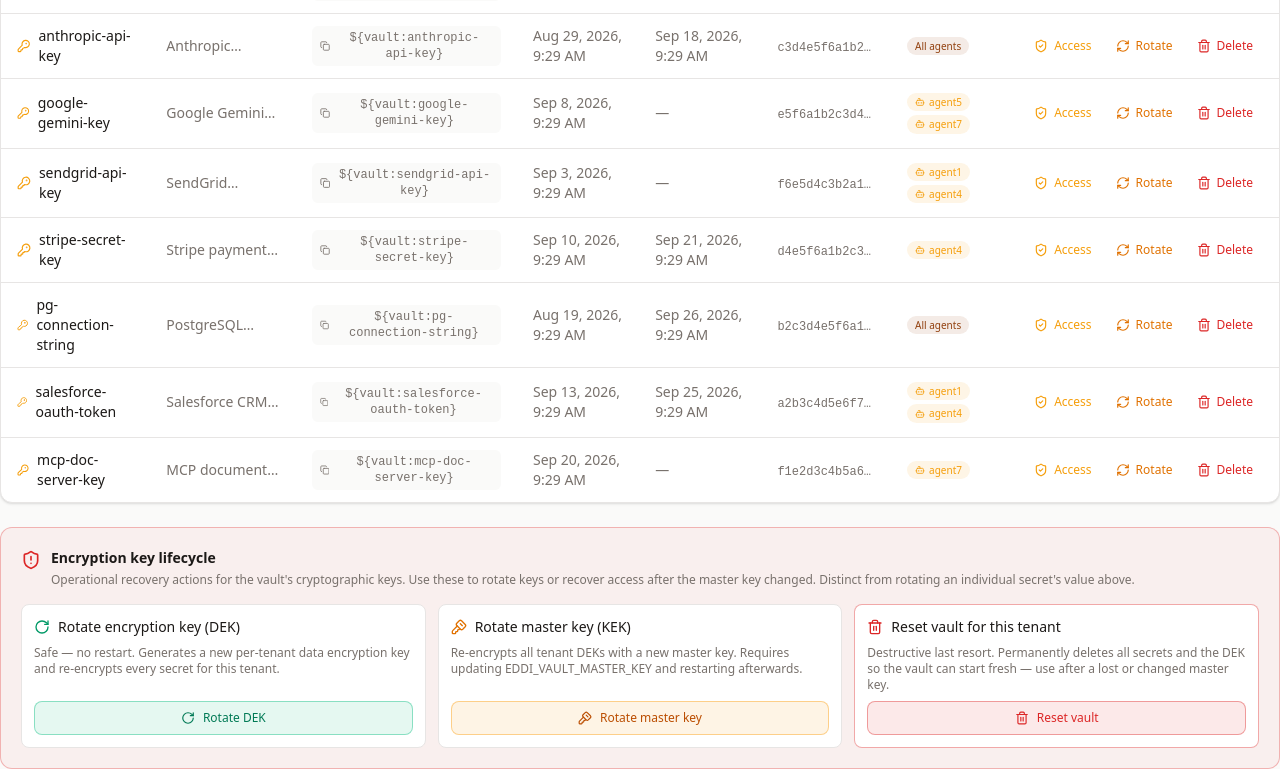
Test: SecretsPage — key lifecycle danger zone › rotate DEK is a guided one-click action behind a single confirm
(page scrolled)
Click the button with test id "open-rotate-dek": (223, 718) x1=34 y1=701 x2=413 y2=735
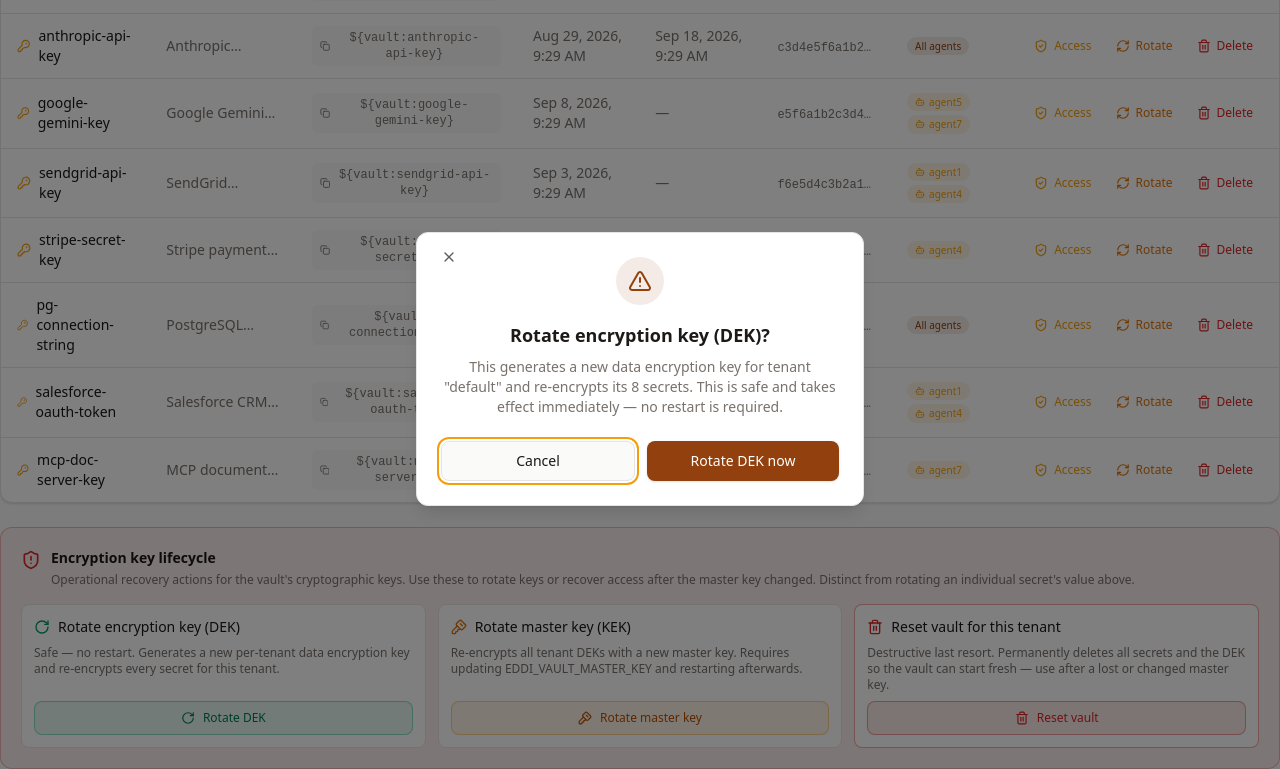
Expected: the text "no restart is required" is shown, x1=444 y1=357 x2=836 y2=416
# A single confirm click performs the rotation (no extra inputs required).
Click the button "Rotate DEK now": (743, 461) x1=647 y1=441 x2=839 y2=481
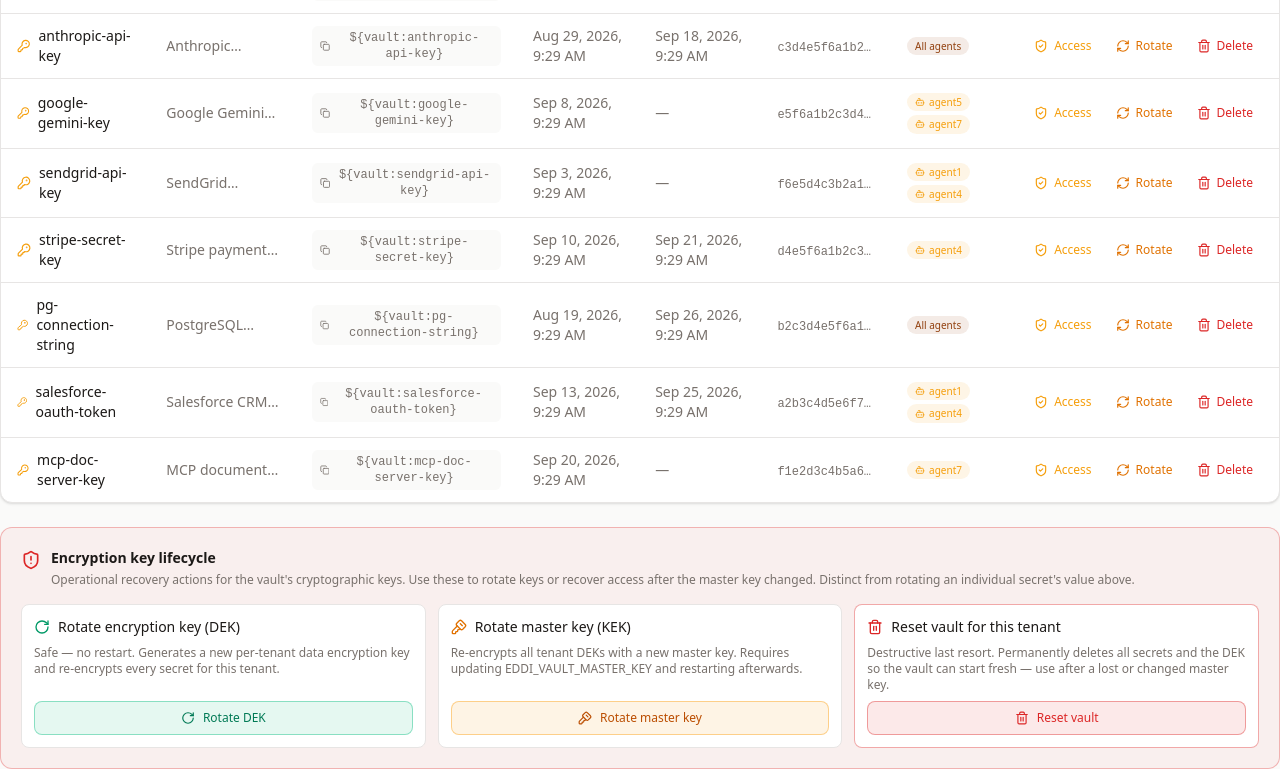
Expected: the button "Rotate DEK now" is gone
